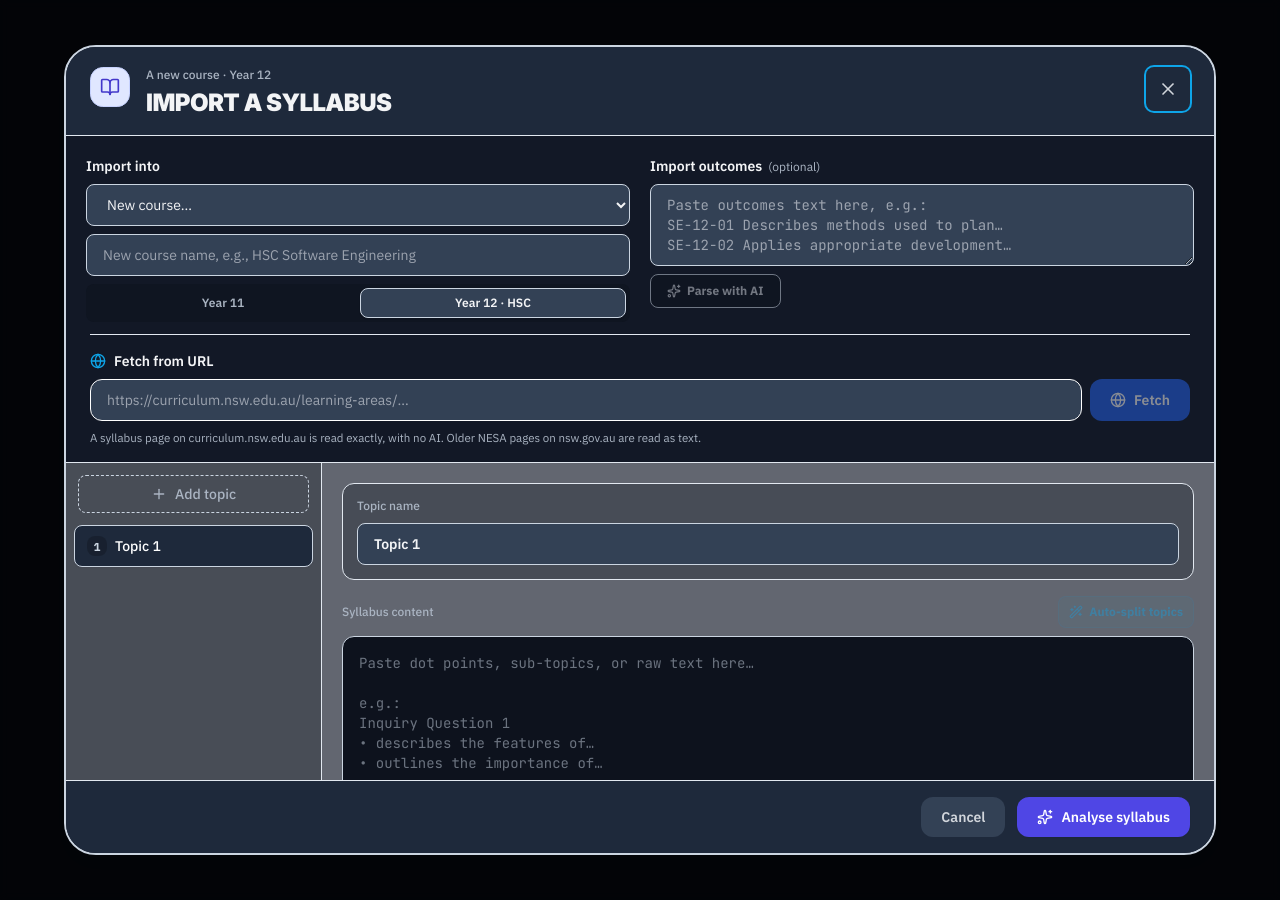
Test: SyllabusImportModal input validation › surfaces a helpful error when a page returns no usable content
Type "https://educationstandards.nsw.edu.au/syllabus" into the field with placeholder "https://curriculum.nsw.edu.au/learning-areas/…" at (586, 400), box [90,379,1082,421]
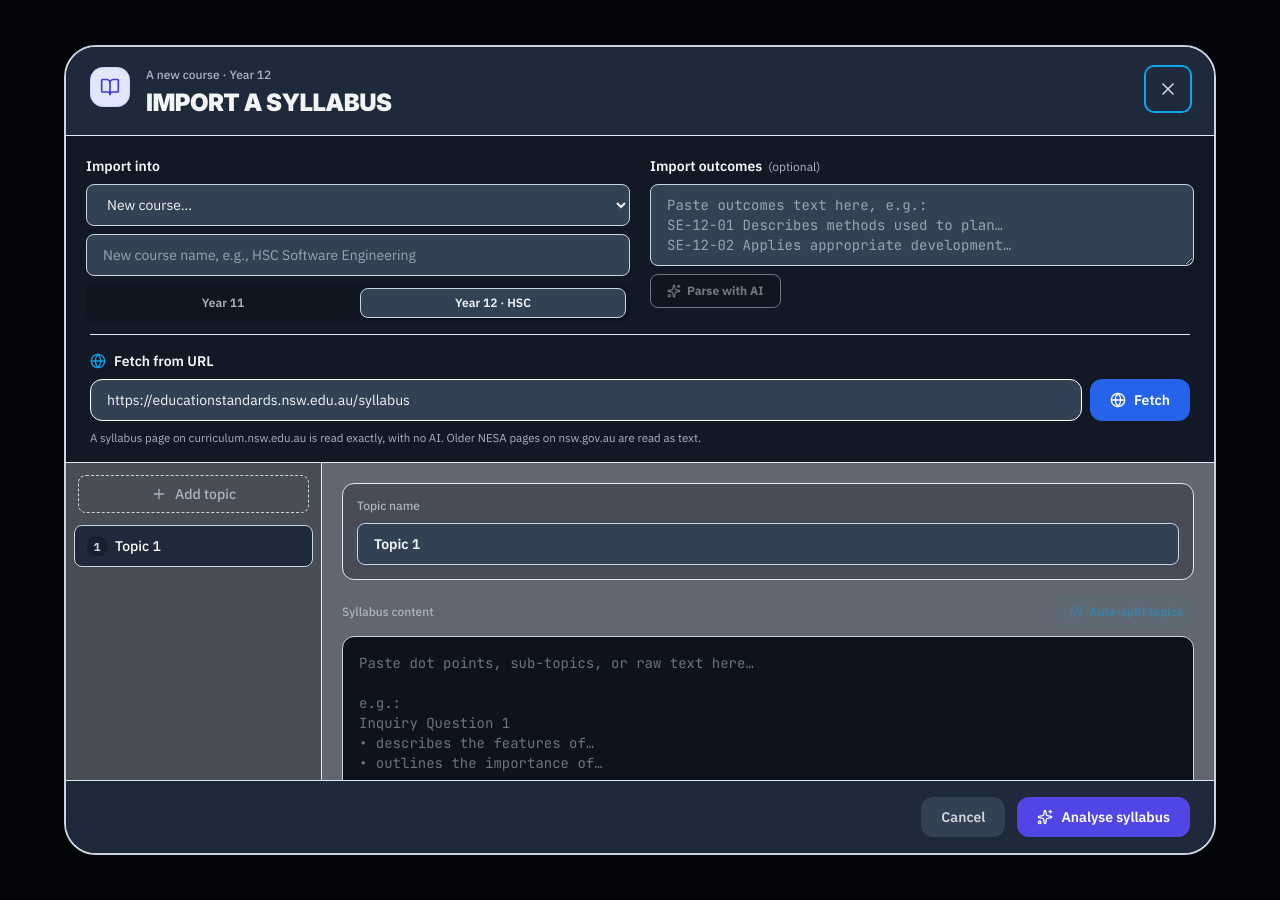
Click the button "Fetch" at (1140, 400), box [1090,379,1190,421]
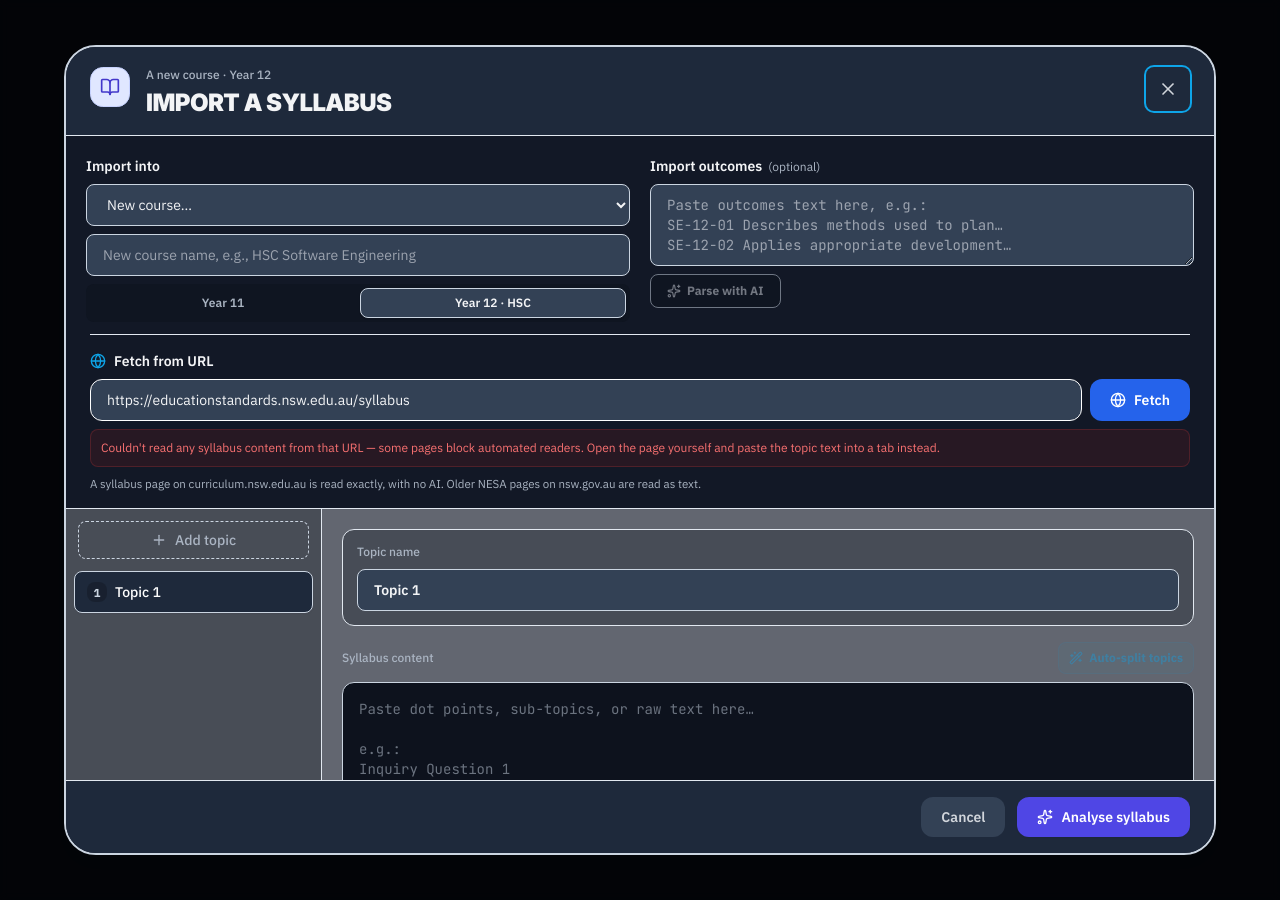
expect the text "Couldn't read any syllabus content" is shown: met, box [101,440,940,455]
